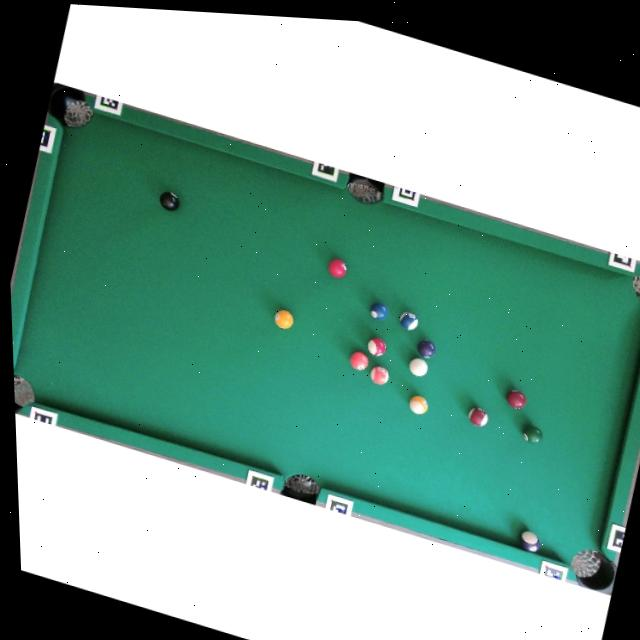cue ball: (406, 355, 429, 378)
other: (516, 528, 543, 555), (270, 306, 296, 332), (156, 188, 182, 213), (363, 334, 389, 359), (367, 362, 392, 388), (325, 256, 350, 281), (366, 299, 391, 324), (396, 308, 421, 333), (406, 392, 431, 417), (503, 387, 528, 411), (466, 405, 489, 429), (520, 422, 544, 445), (348, 349, 371, 373), (415, 337, 437, 360)
